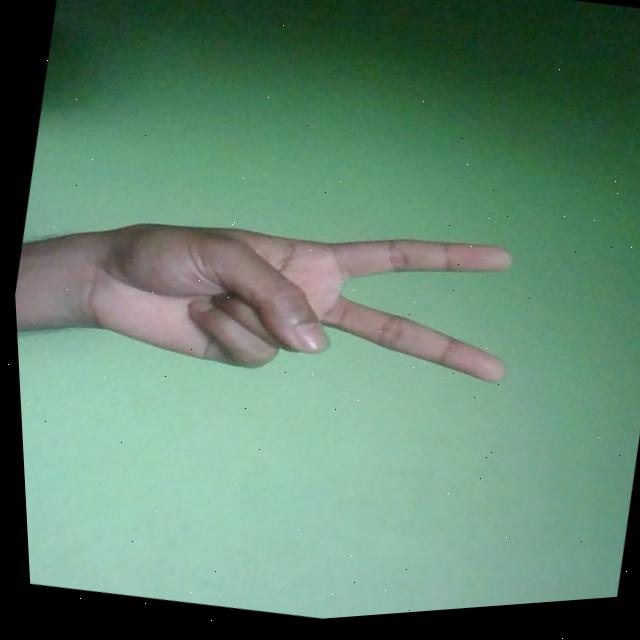Peace: (57, 172, 527, 432)
